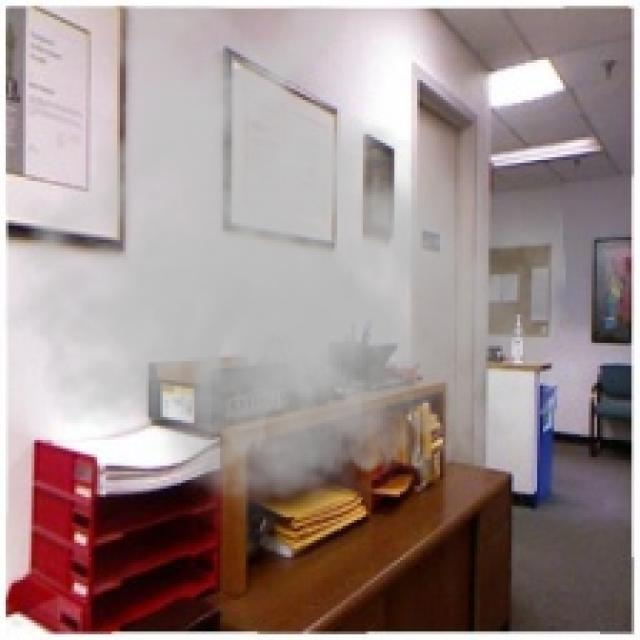smoke: (0, 6, 569, 551)
